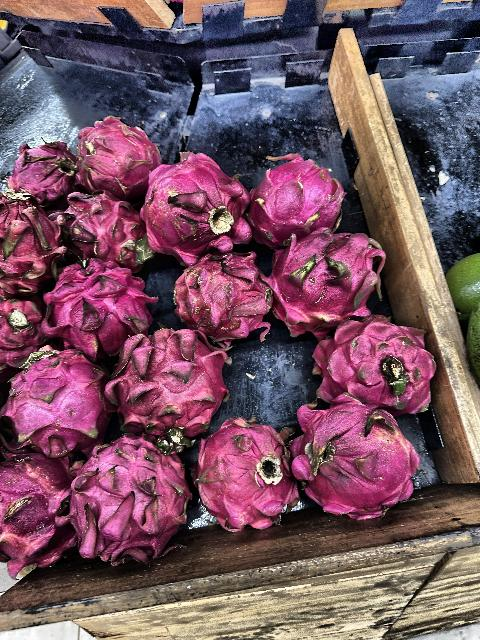buah-naga-matang: (63, 431, 196, 572), (295, 311, 449, 423), (279, 400, 423, 518), (254, 224, 400, 330), (105, 330, 229, 440), (186, 417, 301, 533), (0, 350, 122, 454), (136, 160, 255, 258), (161, 246, 281, 342), (0, 447, 86, 578), (39, 261, 153, 345), (54, 186, 160, 270), (242, 158, 348, 238), (66, 120, 164, 196), (0, 189, 66, 297), (0, 134, 84, 200), (0, 296, 56, 368)
